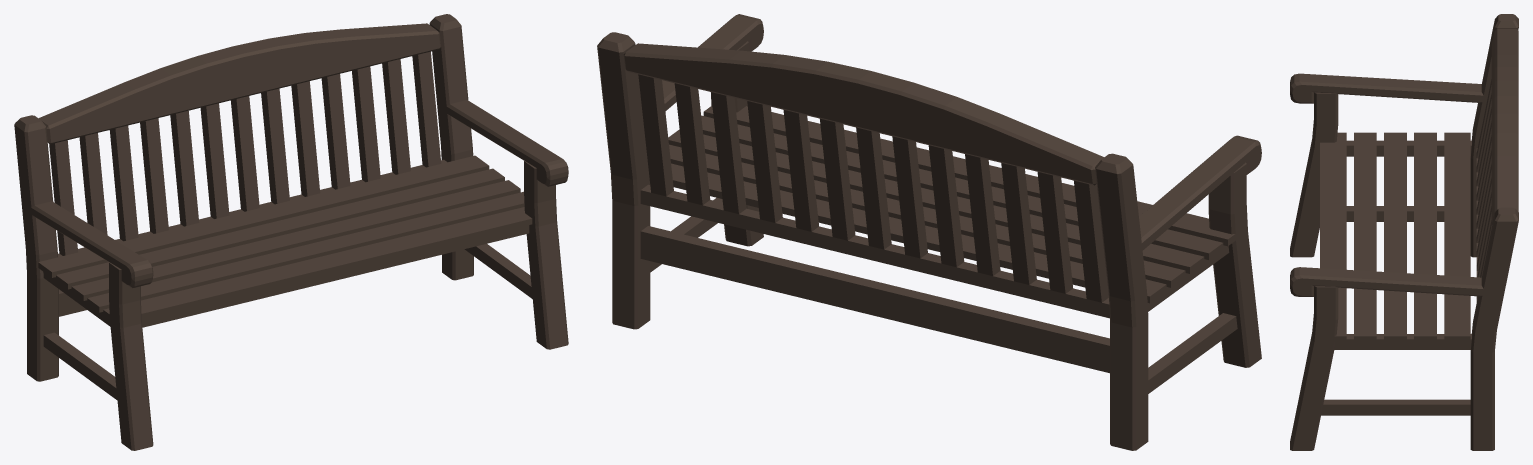
File: h-004_bench_F.FBX
3 views of the same model, side by side, from view 1: azimuth 30°, elevation 25°; view 2: azimuth 150°, elevation 25°; view 3: azimuth 270°, elevation 25° (orthographic). The views are drawn at different scales.
Parts seen in each view (by area): view 1: h-004_bench; view 2: h-004_bench; view 3: h-004_bench.
Boxes of the visible parts, bbox=[...] form: h-004_bench: bbox=[14, 14, 568, 450]; h-004_bench: bbox=[597, 14, 1261, 450]; h-004_bench: bbox=[1290, 14, 1518, 450].
Bounding box in the file's own units: 24 × 13.91 × 11.4.
